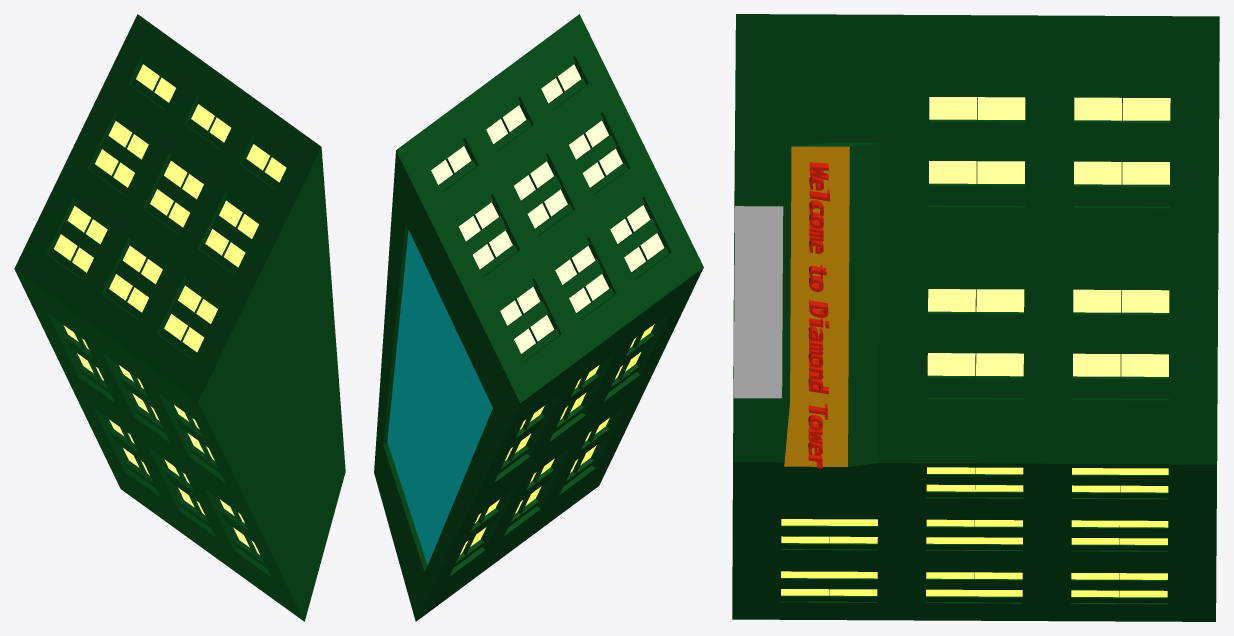
Rendered from diamond_tower.fbx.
3 renders of one model, left to right at view 1: azimuth 30°, elevation 25°; view 2: azimuth 150°, elevation 25°; view 3: azimuth 270°, elevation 25°, orthographic. The views are drawn at different scales.
Parts seen in each view (by area): view 1: diamond_tower; view 2: diamond_tower; view 3: diamond_tower.
Part boxes in pixels (x1,y1,x2,y2): diamond_tower: (14, 14, 345, 621); diamond_tower: (374, 14, 703, 621); diamond_tower: (732, 14, 1219, 621).
Bounding box in the file's own units: 251 × 700 × 499.
